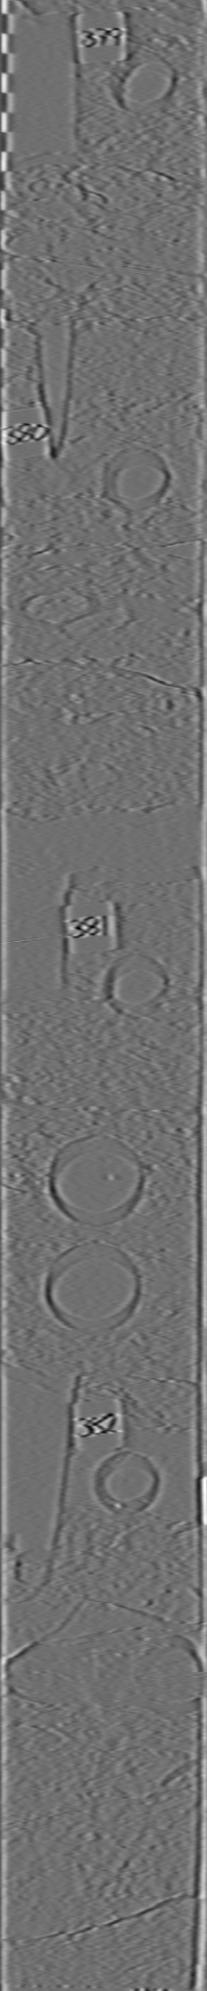hplug: (91, 439, 173, 516), (95, 949, 169, 1027), (89, 1442, 163, 1521), (105, 50, 179, 118)
scal: (42, 1129, 147, 1229), (42, 1241, 147, 1340)
vplug: (8, 1361, 83, 1588), (1, 805, 79, 1008), (14, 1, 93, 180)
